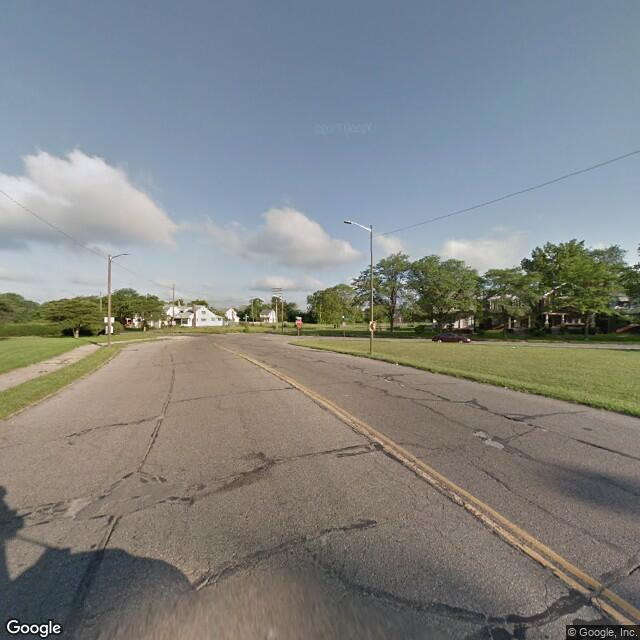litter: (393, 362, 402, 367), (503, 387, 513, 390)
